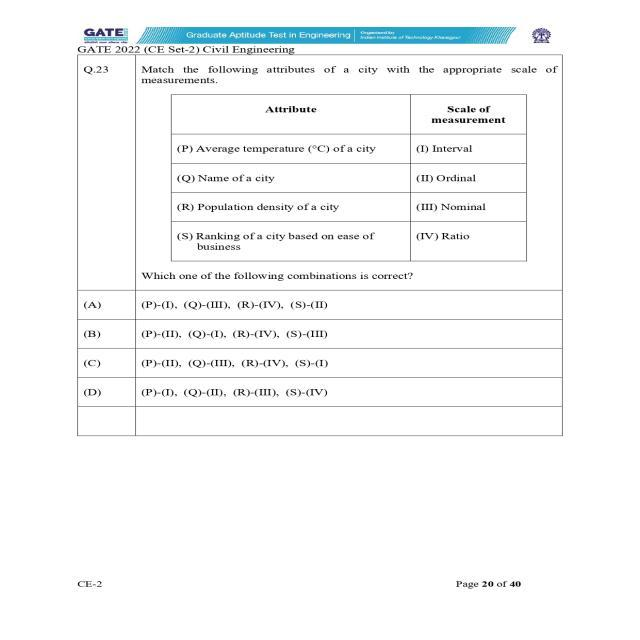Answer_Block: (79, 292, 562, 434)
Question_Answer_Block: (79, 54, 564, 433)
Question_Block: (81, 58, 562, 286)
Question_Paper_Area: (76, 54, 564, 436)
